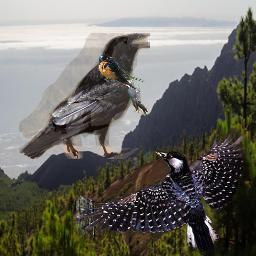Crow: (19, 33, 150, 159)
Swallow: (98, 53, 145, 89)
Woodpecker: (76, 128, 244, 252), (123, 78, 148, 115)
